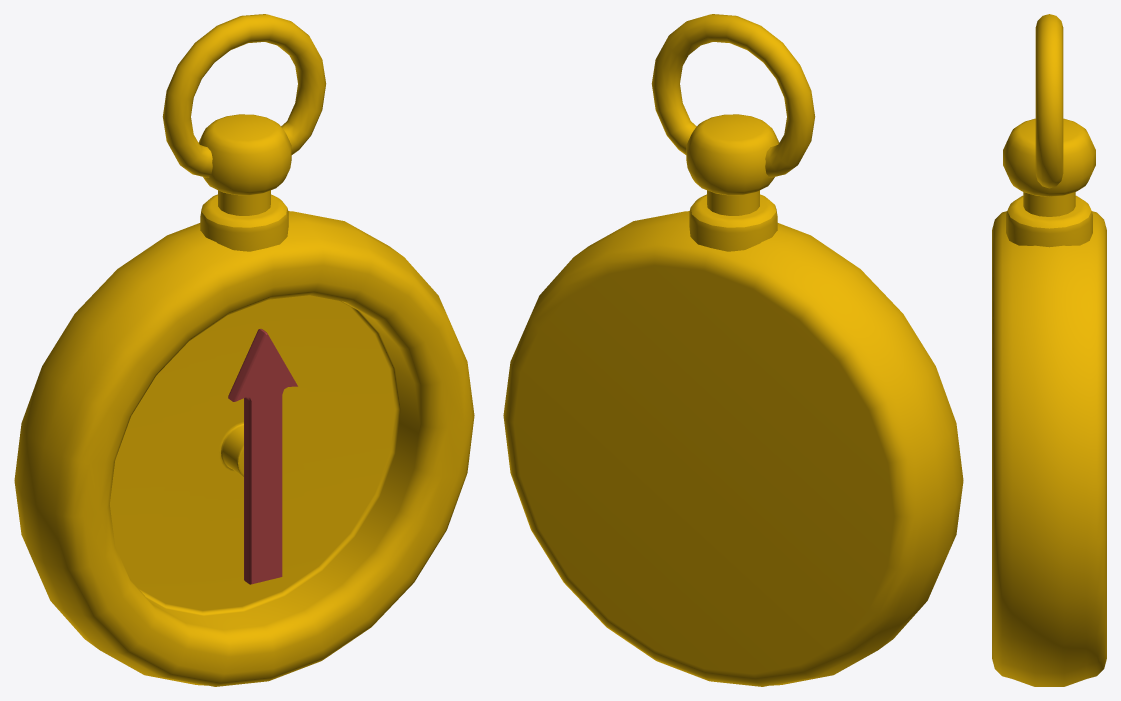
The model's file is Compass.fbx.
3 views of the same model, side by side, from view 1: azimuth 30°, elevation 25°; view 2: azimuth 150°, elevation 25°; view 3: azimuth 270°, elevation 25° (orthographic). The views are drawn at different scales.
Parts seen in each view (by area): view 1: Compass, Arrow; view 2: Compass; view 3: Compass.
Boxes of the visible parts, box(x1,y1,x2,y2) form: Compass: box(14, 14, 474, 686); Arrow: box(228, 329, 297, 584); Compass: box(503, 14, 963, 686); Compass: box(992, 14, 1106, 686).
Bounding box in the file's own units: 1.35 × 1.96 × 0.3181.
